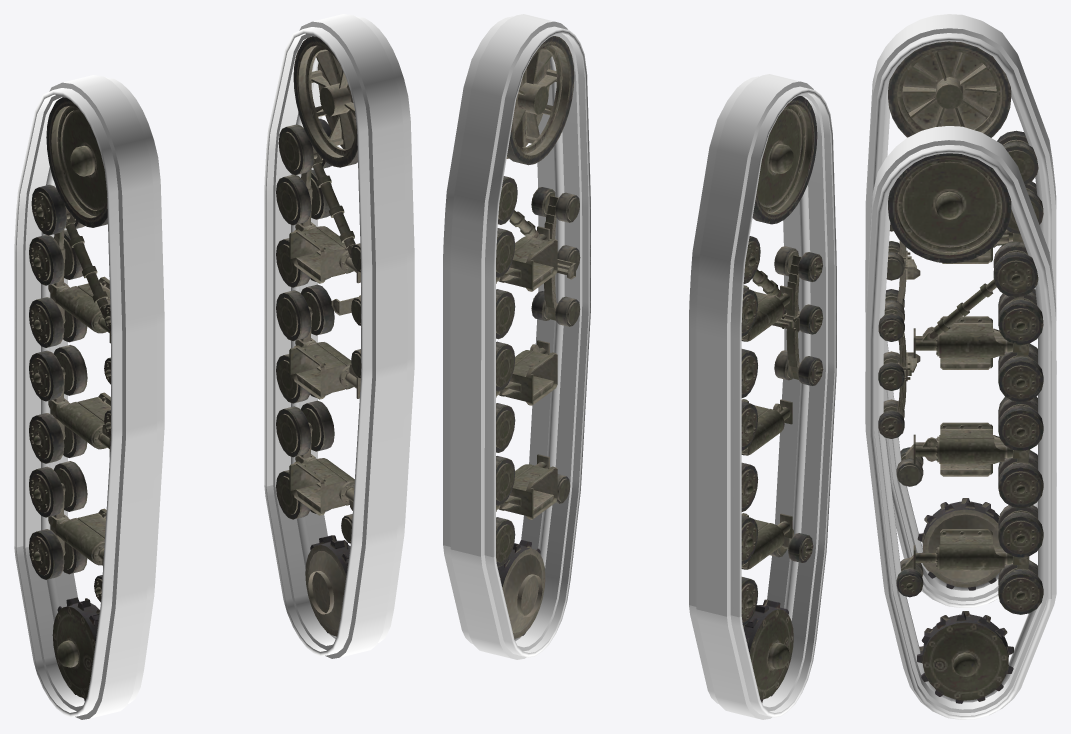
The model's file is Chassis.glb.
The picture shows the model from 3 angles, left to right: view 1: azimuth 30°, elevation 25°; view 2: azimuth 150°, elevation 25°; view 3: azimuth 270°, elevation 25°; orthographic projection. The views are drawn at different scales.
Visible parts, largest first — view 1: set_5_group_0, set_4_group_0, set_1_group_0, set_3_group_0, set_2_group_0, set_0_group_0; view 2: set_5_group_0, set_4_group_0, set_1_group_0, set_3_group_0; view 3: set_1_group_0, set_4_group_0, set_3_group_0, set_5_group_0, set_0_group_0.
Boxes of the visible parts, <box> form: set_5_group_0: <box>14,75,164,719</box>; set_4_group_0: <box>264,14,414,658</box>; set_1_group_0: <box>276,36,361,636</box>; set_3_group_0: <box>29,97,110,701</box>; set_2_group_0: <box>50,206,102,555</box>; set_0_group_0: <box>300,146,350,234</box>; set_5_group_0: <box>689,74,836,719</box>; set_4_group_0: <box>443,14,590,659</box>; set_1_group_0: <box>496,36,580,639</box>; set_3_group_0: <box>741,96,823,702</box>; set_1_group_0: <box>878,153,1043,703</box>; set_4_group_0: <box>865,126,1056,719</box>; set_3_group_0: <box>885,41,1043,590</box>; set_5_group_0: <box>865,14,1056,607</box>; set_0_group_0: <box>942,279,1029,569</box>.
Bounding box in the file's own units: 1.77 × 3.55 × 1.06.
Materials: 6 (4 with a texture image).
